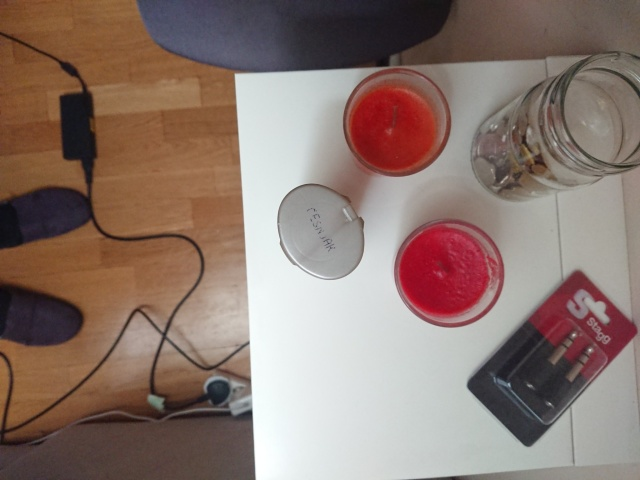Kotanyi Garlic Granules 70g: (274, 181, 368, 283)
